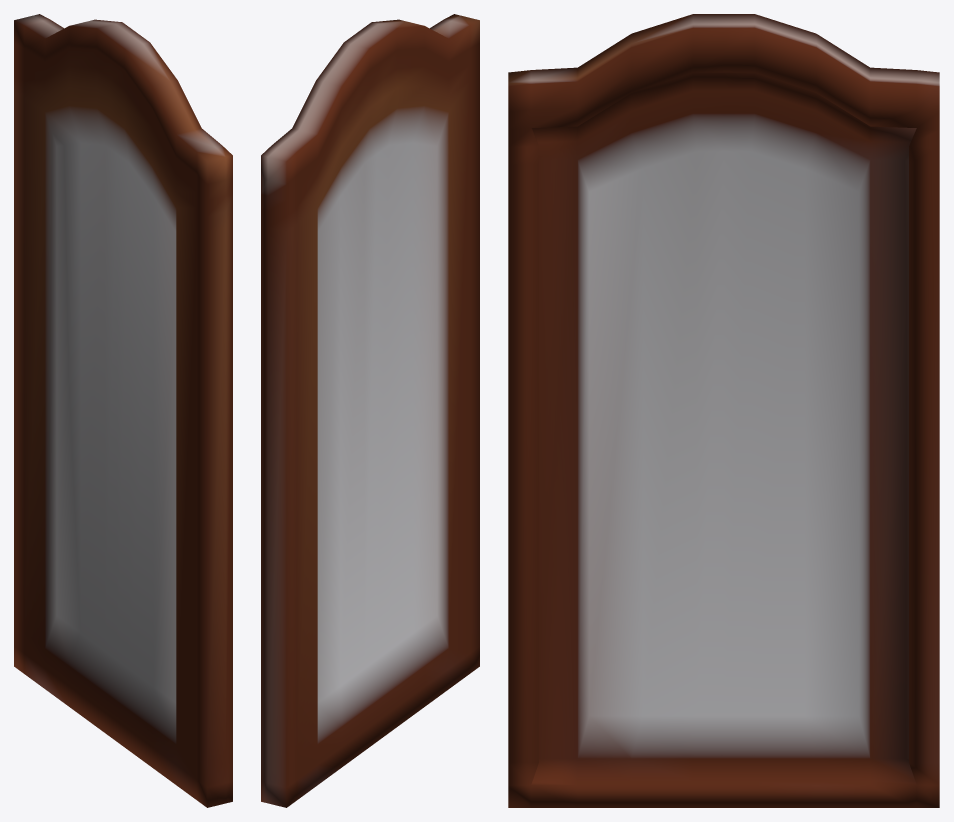
Rendered from Espelho.fbx.
The picture shows the model from 3 angles, left to right: view 1: azimuth 30°, elevation 25°; view 2: azimuth 150°, elevation 25°; view 3: azimuth 270°, elevation 25°; orthographic projection. The views are drawn at different scales.
Parts seen in each view (by area): view 1: Espelho.001; view 2: Espelho.001; view 3: Espelho.001.
Boxes of the visible parts, bbox=[...] form: Espelho.001: bbox=[14, 14, 232, 807]; Espelho.001: bbox=[261, 14, 479, 807]; Espelho.001: bbox=[508, 14, 939, 807].
Size of the model in its own units: 8.63 by 225 by 113.
